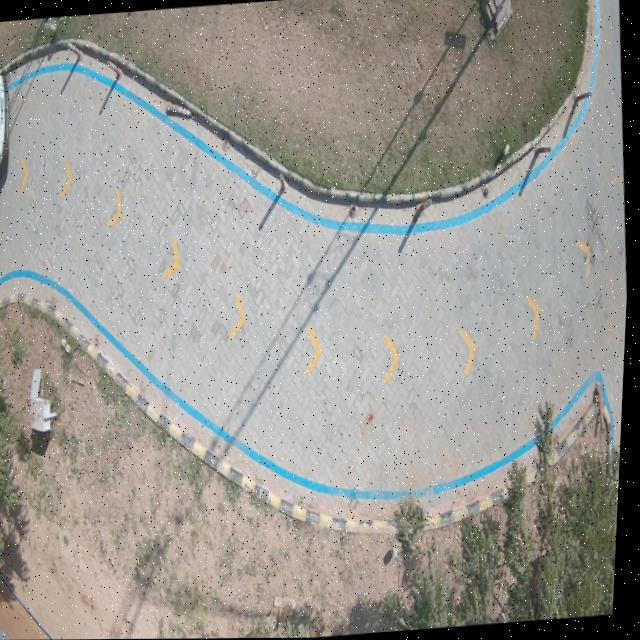car: (0, 74, 9, 176)
